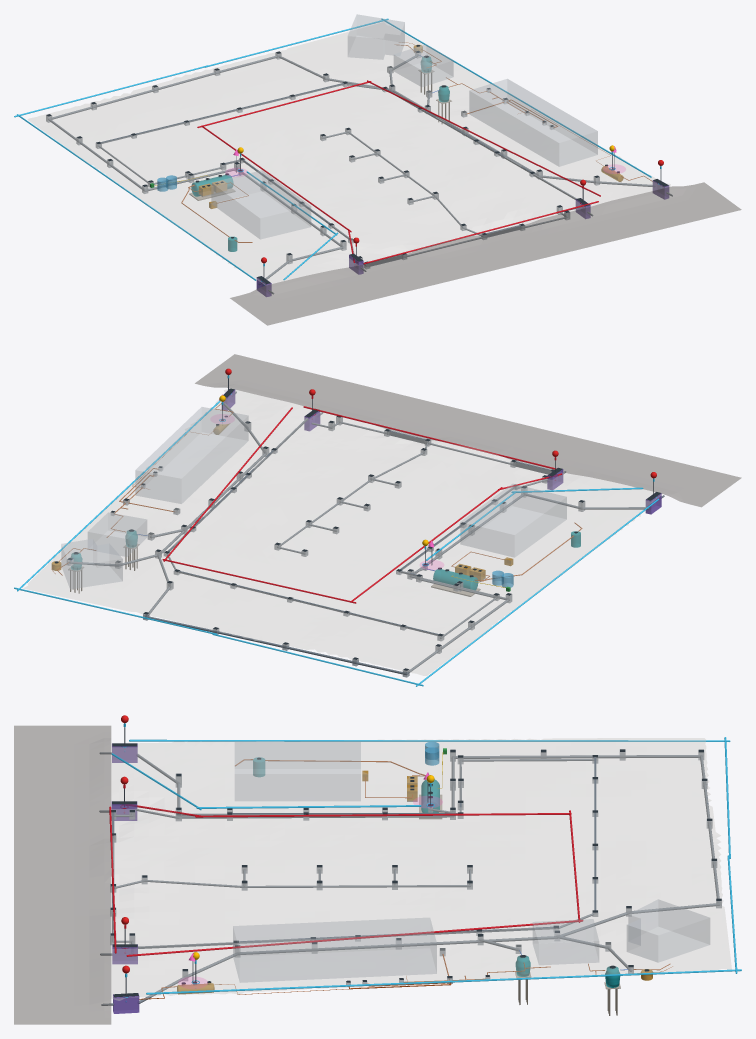
The picture shows the model from 3 angles, top to bottom: view 1: azimuth 30°, elevation 25°; view 2: azimuth 150°, elevation 25°; view 3: azimuth 270°, elevation 25°; orthographic projection. The views are drawn at different scales.
Visible parts, largest first — view 1: Forecourt, paving and lawn, Ram Intra road side and entrances, Commercial building A, KFC drive-through restaurant, Commercial building B, Toilets (men's to the north, women's to the south), Site drain W: rear line, west side and round the lawn to the, G2.2 water route (final design) (×2), G2.1 water route (final design) (×2), Site drain E: rear line and east side to the east outfall; view 2: Forecourt, paving and lawn, Ram Intra road side and entrances, Commercial building A, KFC drive-through restaurant, Commercial building B, Toilets (men's to the north, women's to the south), Site drain W: rear line, west side and round the lawn to the, G2.2 water route (final design) (×2), Site drain E: rear line and east side to the east outfall, G2.1 water route (final design); view 3: Forecourt, paving and lawn, Ram Intra road side and entrances, Commercial building A, KFC drive-through restaurant, Commercial building B, G2.2 water route (final design) (×3), Toilets (men's to the north, women's to the south), G2.1 water route (final design) (×2), Site drain W: rear line, west side and round the lawn to the, Site drain E: rear line and east side to the east outfall, Concrete V-gutter: east side of the forecourt (flows south t, Site drain C: canopy area to the front (+1 smaller).
Part boxes in pixels (<box>): Forecourt, paving and lawn: <box>28,22,670,285</box>; Ram Intra road side and entrances: <box>230,182,741,325</box>; Commercial building A: <box>469,79,597,166</box>; KFC drive-through restaurant: <box>211,170,310,239</box>; Commercial building B: <box>348,14,404,59</box>; Toilets (men's to the north, women's to the south): <box>394,44,453,86</box>; Site drain W: rear line, west side and round the lawn to the: <box>48,72,343,284</box>; G2.2 water route (final design) (×2): <box>17,18,651,280</box>; G2.1 water route (final design) (×2): <box>363,80,600,264</box>; Site drain E: rear line and east side to the east outfall: <box>217,55,654,186</box>; Forecourt, paving and lawn: <box>23,389,662,675</box>; Ram Intra road side and entrances: <box>195,354,741,507</box>; Commercial building A: <box>135,407,248,503</box>; KFC drive-through restaurant: <box>460,484,566,557</box>; Commercial building B: <box>61,539,122,589</box>; Toilets (men's to the north, women's to the south): <box>88,512,146,556</box>; Site drain W: rear line, west side and round the lawn to the: <box>215,493,648,674</box>; G2.2 water route (final design) (×2): <box>17,400,659,686</box>; Site drain E: rear line and east side to the east outfall: <box>145,403,266,632</box>; G2.1 water route (final design): <box>303,406,556,469</box>; Forecourt, paving and lawn: <box>111,738,731,1000</box>; Ram Intra road side and entrances: <box>14,725,111,1024</box>; Commercial building A: <box>233,918,436,982</box>; KFC drive-through restaurant: <box>235,742,360,800</box>; Commercial building B: <box>627,899,709,962</box>; G2.2 water route (final design) (×3): <box>129,739,741,994</box>; Toilets (men's to the north, women's to the south): <box>533,919,598,964</box>; G2.1 water route (final design) (×2): <box>126,813,583,956</box>; Site drain W: rear line, west side and round the lawn to the: <box>137,754,715,862</box>; Site drain E: rear line and east side to the east outfall: <box>138,863,719,1003</box>; Concrete V-gutter: east side of the forecourt (flows south t: <box>138,926,553,948</box>; Site drain C: canopy area to the front: <box>114,869,471,888</box>.
Bounding box in the file's own units: 94 × 11.44 × 96.72.
